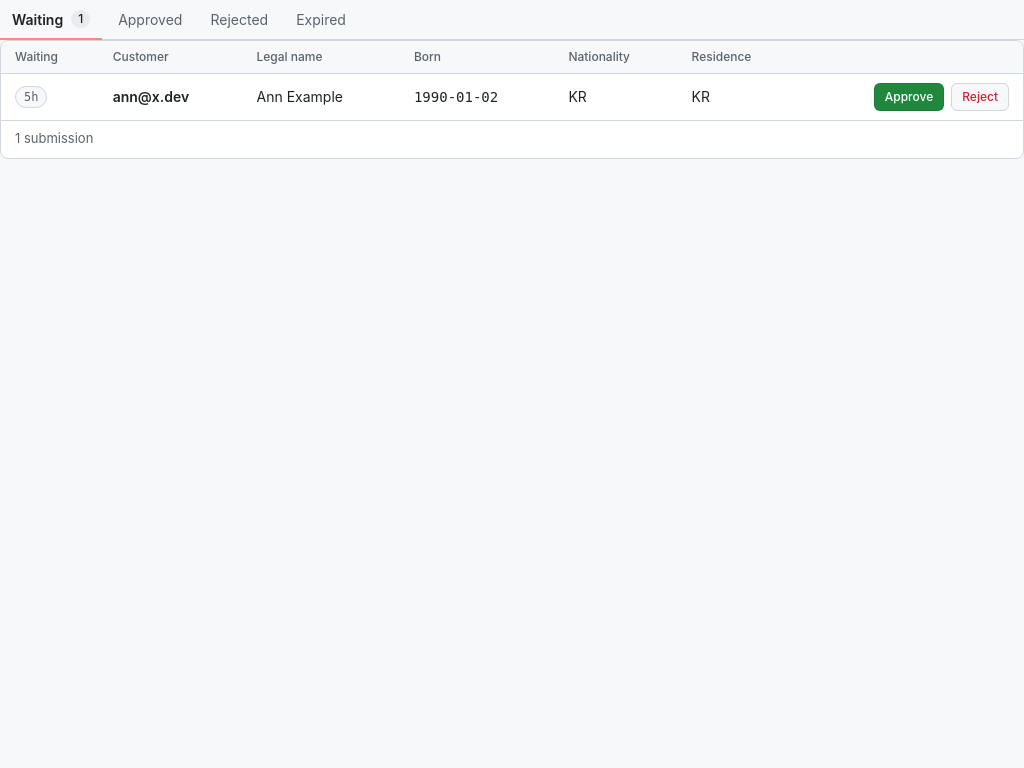
it: KYC review › shows what was typed and how long it has waited, and approves only with a code
Check: the text "Ann Example" is shown, box [256,88,343,105]
Check: the text "5h" is shown, box [15,86,48,108]
Click the button "Approve": (909, 97) [874,83,944,111]
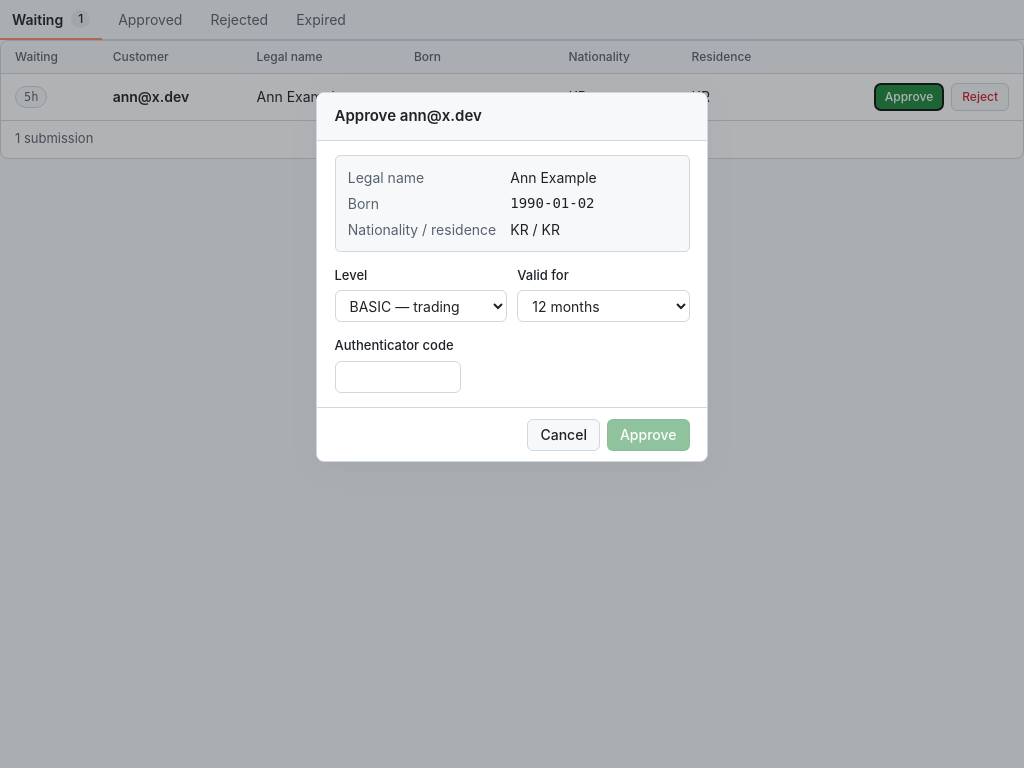
Check: the button "Approve" is disabled, box [607,419,690,451]
In the field labelled "Authenticator code": (398, 377) [334,361,460,393], type "123456"
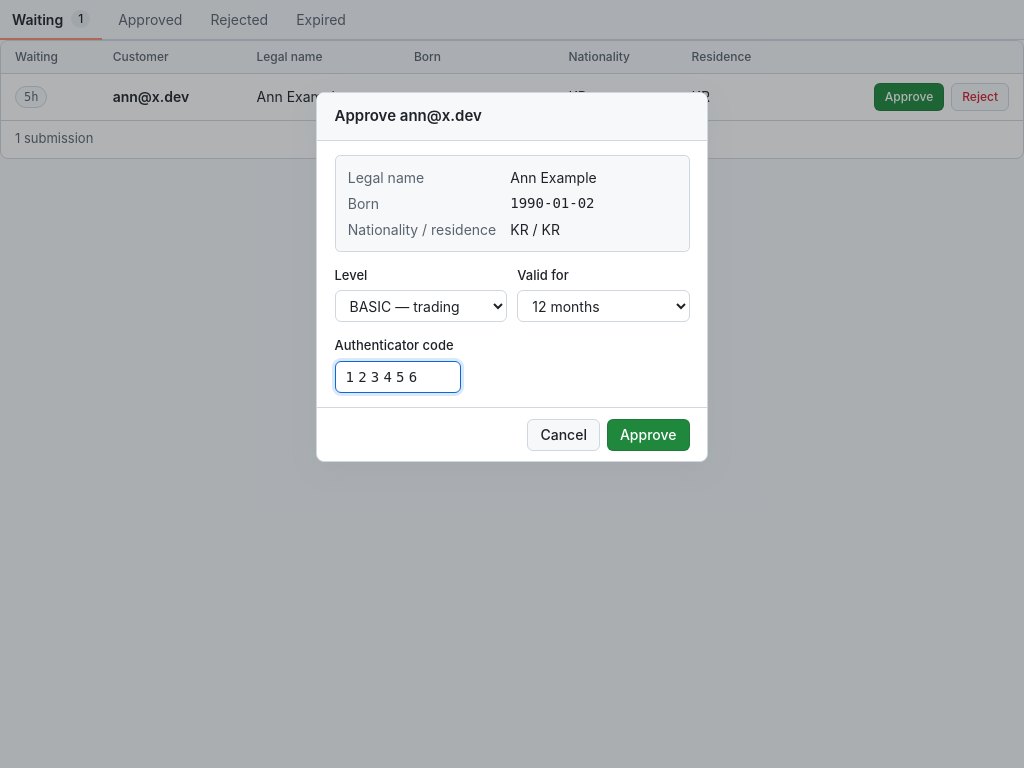
Click the button "Approve": (648, 435) [607,419,690,451]
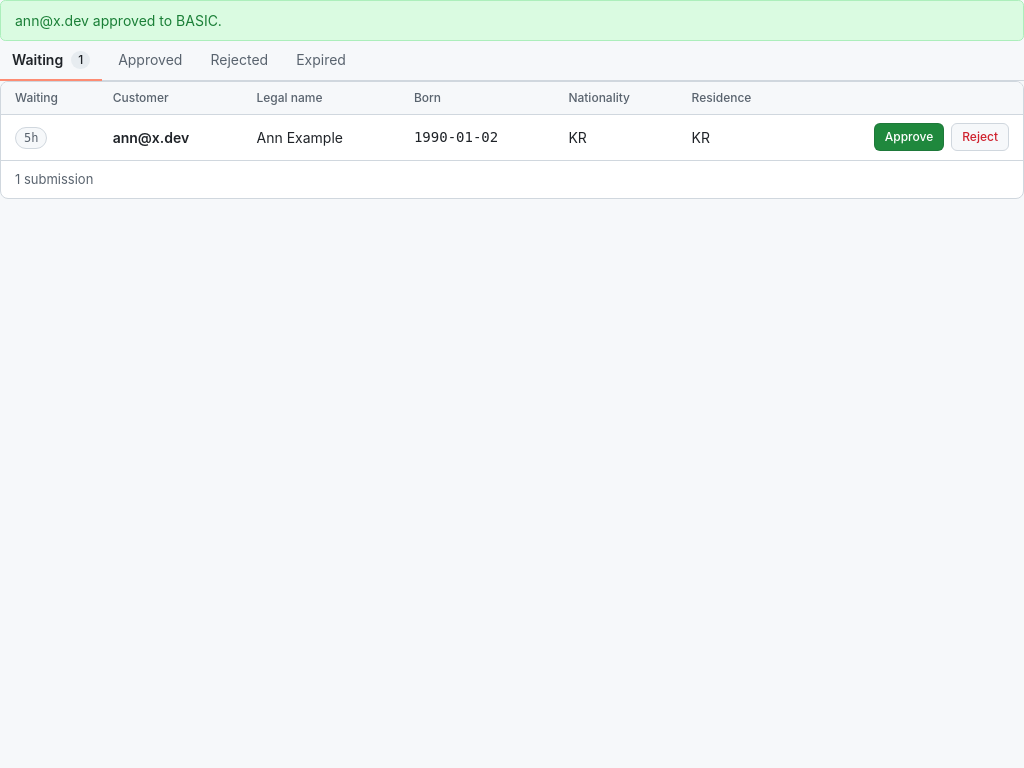
Check: the message shows "approved to BASIC", box [15,12,222,29]
